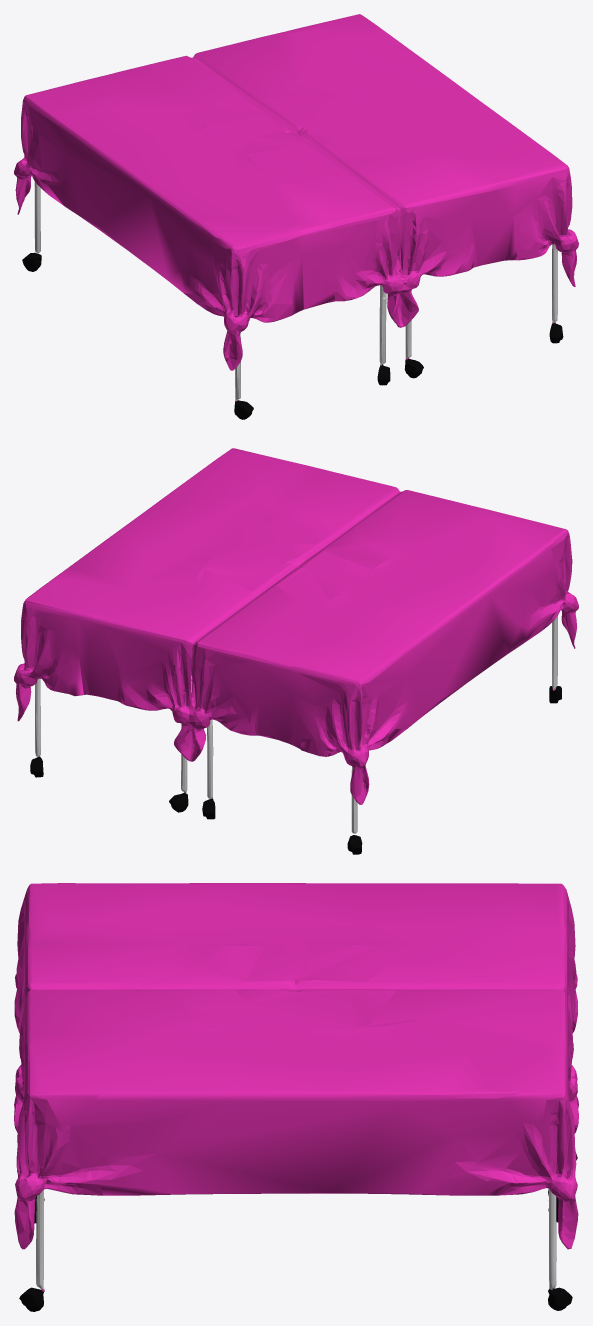
File: table.fbx
The picture shows the model from 3 angles, top to bottom: view 1: azimuth 30°, elevation 25°; view 2: azimuth 150°, elevation 25°; view 3: azimuth 270°, elevation 25°; orthographic projection. The views are drawn at different scales.
Parts seen in each view (by area): view 1: mesh_node; view 2: mesh_node; view 3: mesh_node.
Boxes of the visible parts, bbox=[...] form: mesh_node: bbox=[14, 14, 578, 419]; mesh_node: bbox=[14, 448, 578, 854]; mesh_node: bbox=[14, 883, 578, 1311].
Size of the model in its own units: 110 by 52.76 by 119.
